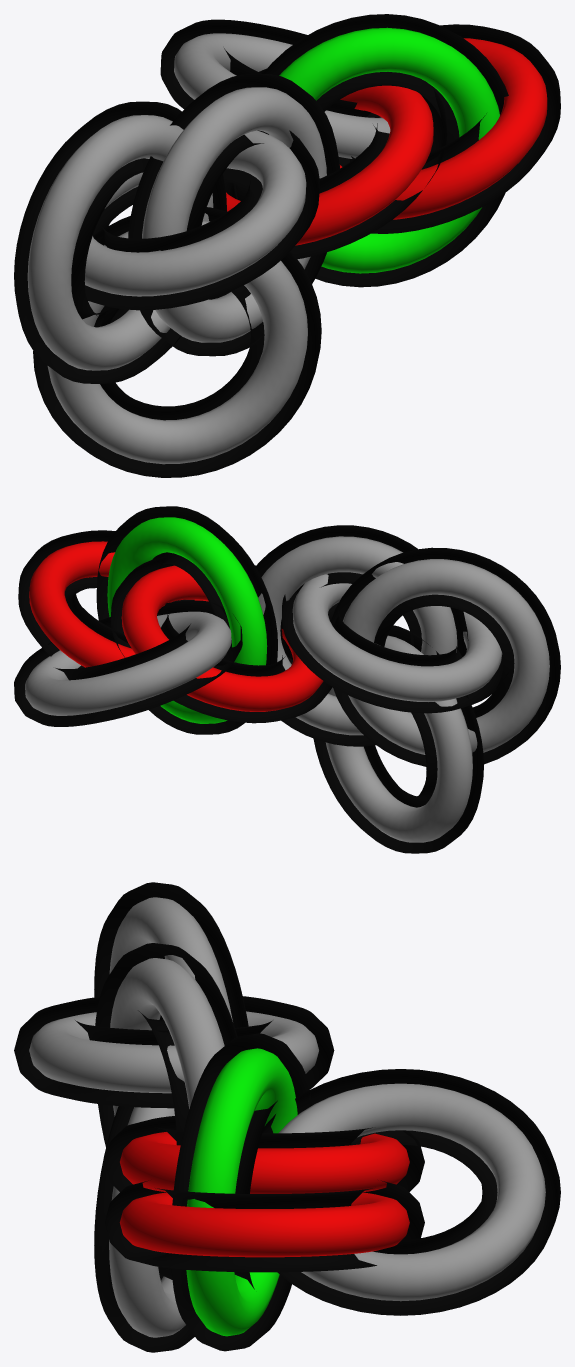
Rendered from charmed_step_06.glb.
3 renders of one model, top to bottom at view 1: azimuth 30°, elevation 25°; view 2: azimuth 150°, elevation 25°; view 3: azimuth 270°, elevation 25°, orthographic. The views are drawn at different scales.
Visible parts, largest first — view 1: Torus.1267, Torus.1265, Torus.1272, Torus.1268, Torus.1266, Torus.1270, Torus.1269, Torus.1271; view 2: Torus.1265, Torus.1267, Torus.1268, Torus.1271, Torus.1272, Torus.1266, Torus.1269, Torus.1270; view 3: Torus.1271, Torus.1270, Torus.1272, Torus.1268, Torus.1269, Torus.1266, Torus.1265, Torus.1267.
Part boxes in pixels (box(x1,y1,x2,y2)): Torus.1267: box(33, 207, 321, 477); Torus.1265: box(14, 101, 226, 383); Torus.1272: box(233, 14, 508, 287); Torus.1268: box(84, 130, 319, 310); Torus.1266: box(128, 74, 339, 356); Torus.1270: box(340, 24, 560, 233); Torus.1269: box(224, 68, 447, 259); Torus.1271: box(160, 19, 390, 166); Torus.1265: box(330, 547, 560, 766); Torus.1267: box(313, 625, 483, 853); Torus.1268: box(282, 574, 509, 713); Torus.1271: box(14, 600, 242, 726); Torus.1272: box(96, 506, 277, 734); Torus.1266: box(255, 525, 468, 746); Torus.1269: box(110, 555, 332, 723); Torus.1270: box(18, 530, 208, 669); Torus.1271: box(262, 1069, 560, 1315); Torus.1270: box(104, 1180, 424, 1272); Torus.1272: box(171, 1033, 311, 1351); Torus.1268: box(14, 996, 334, 1108); Torus.1269: box(104, 1116, 424, 1193); Torus.1266: box(95, 943, 237, 1146); Torus.1265: box(94, 882, 248, 1027); Torus.1267: box(94, 1106, 194, 1352).
Bounding box in the file's own units: 4.87 × 3.02 × 3.62.
